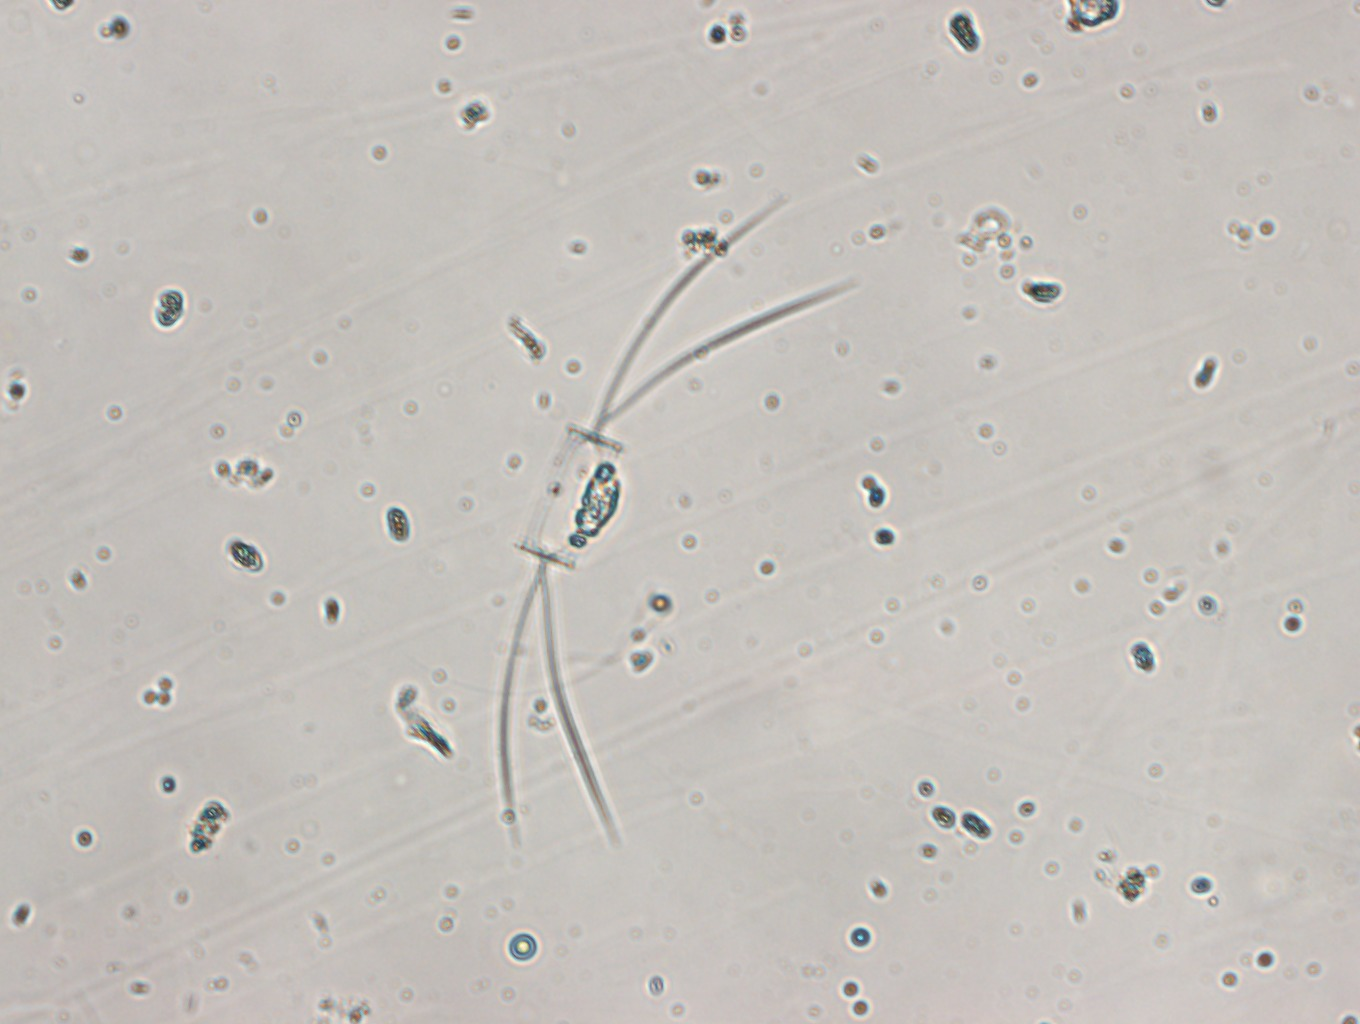chaetoceros: (473, 173, 864, 847)
